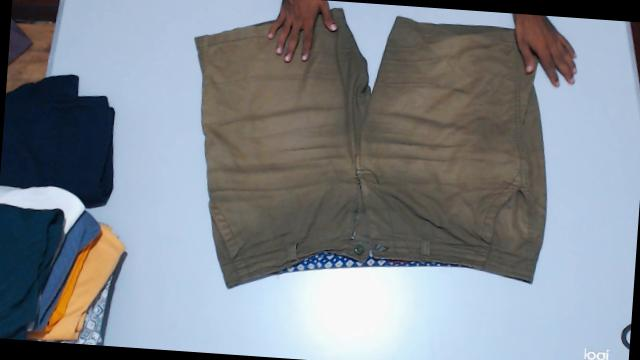new-garment: (194, 9, 545, 287)
